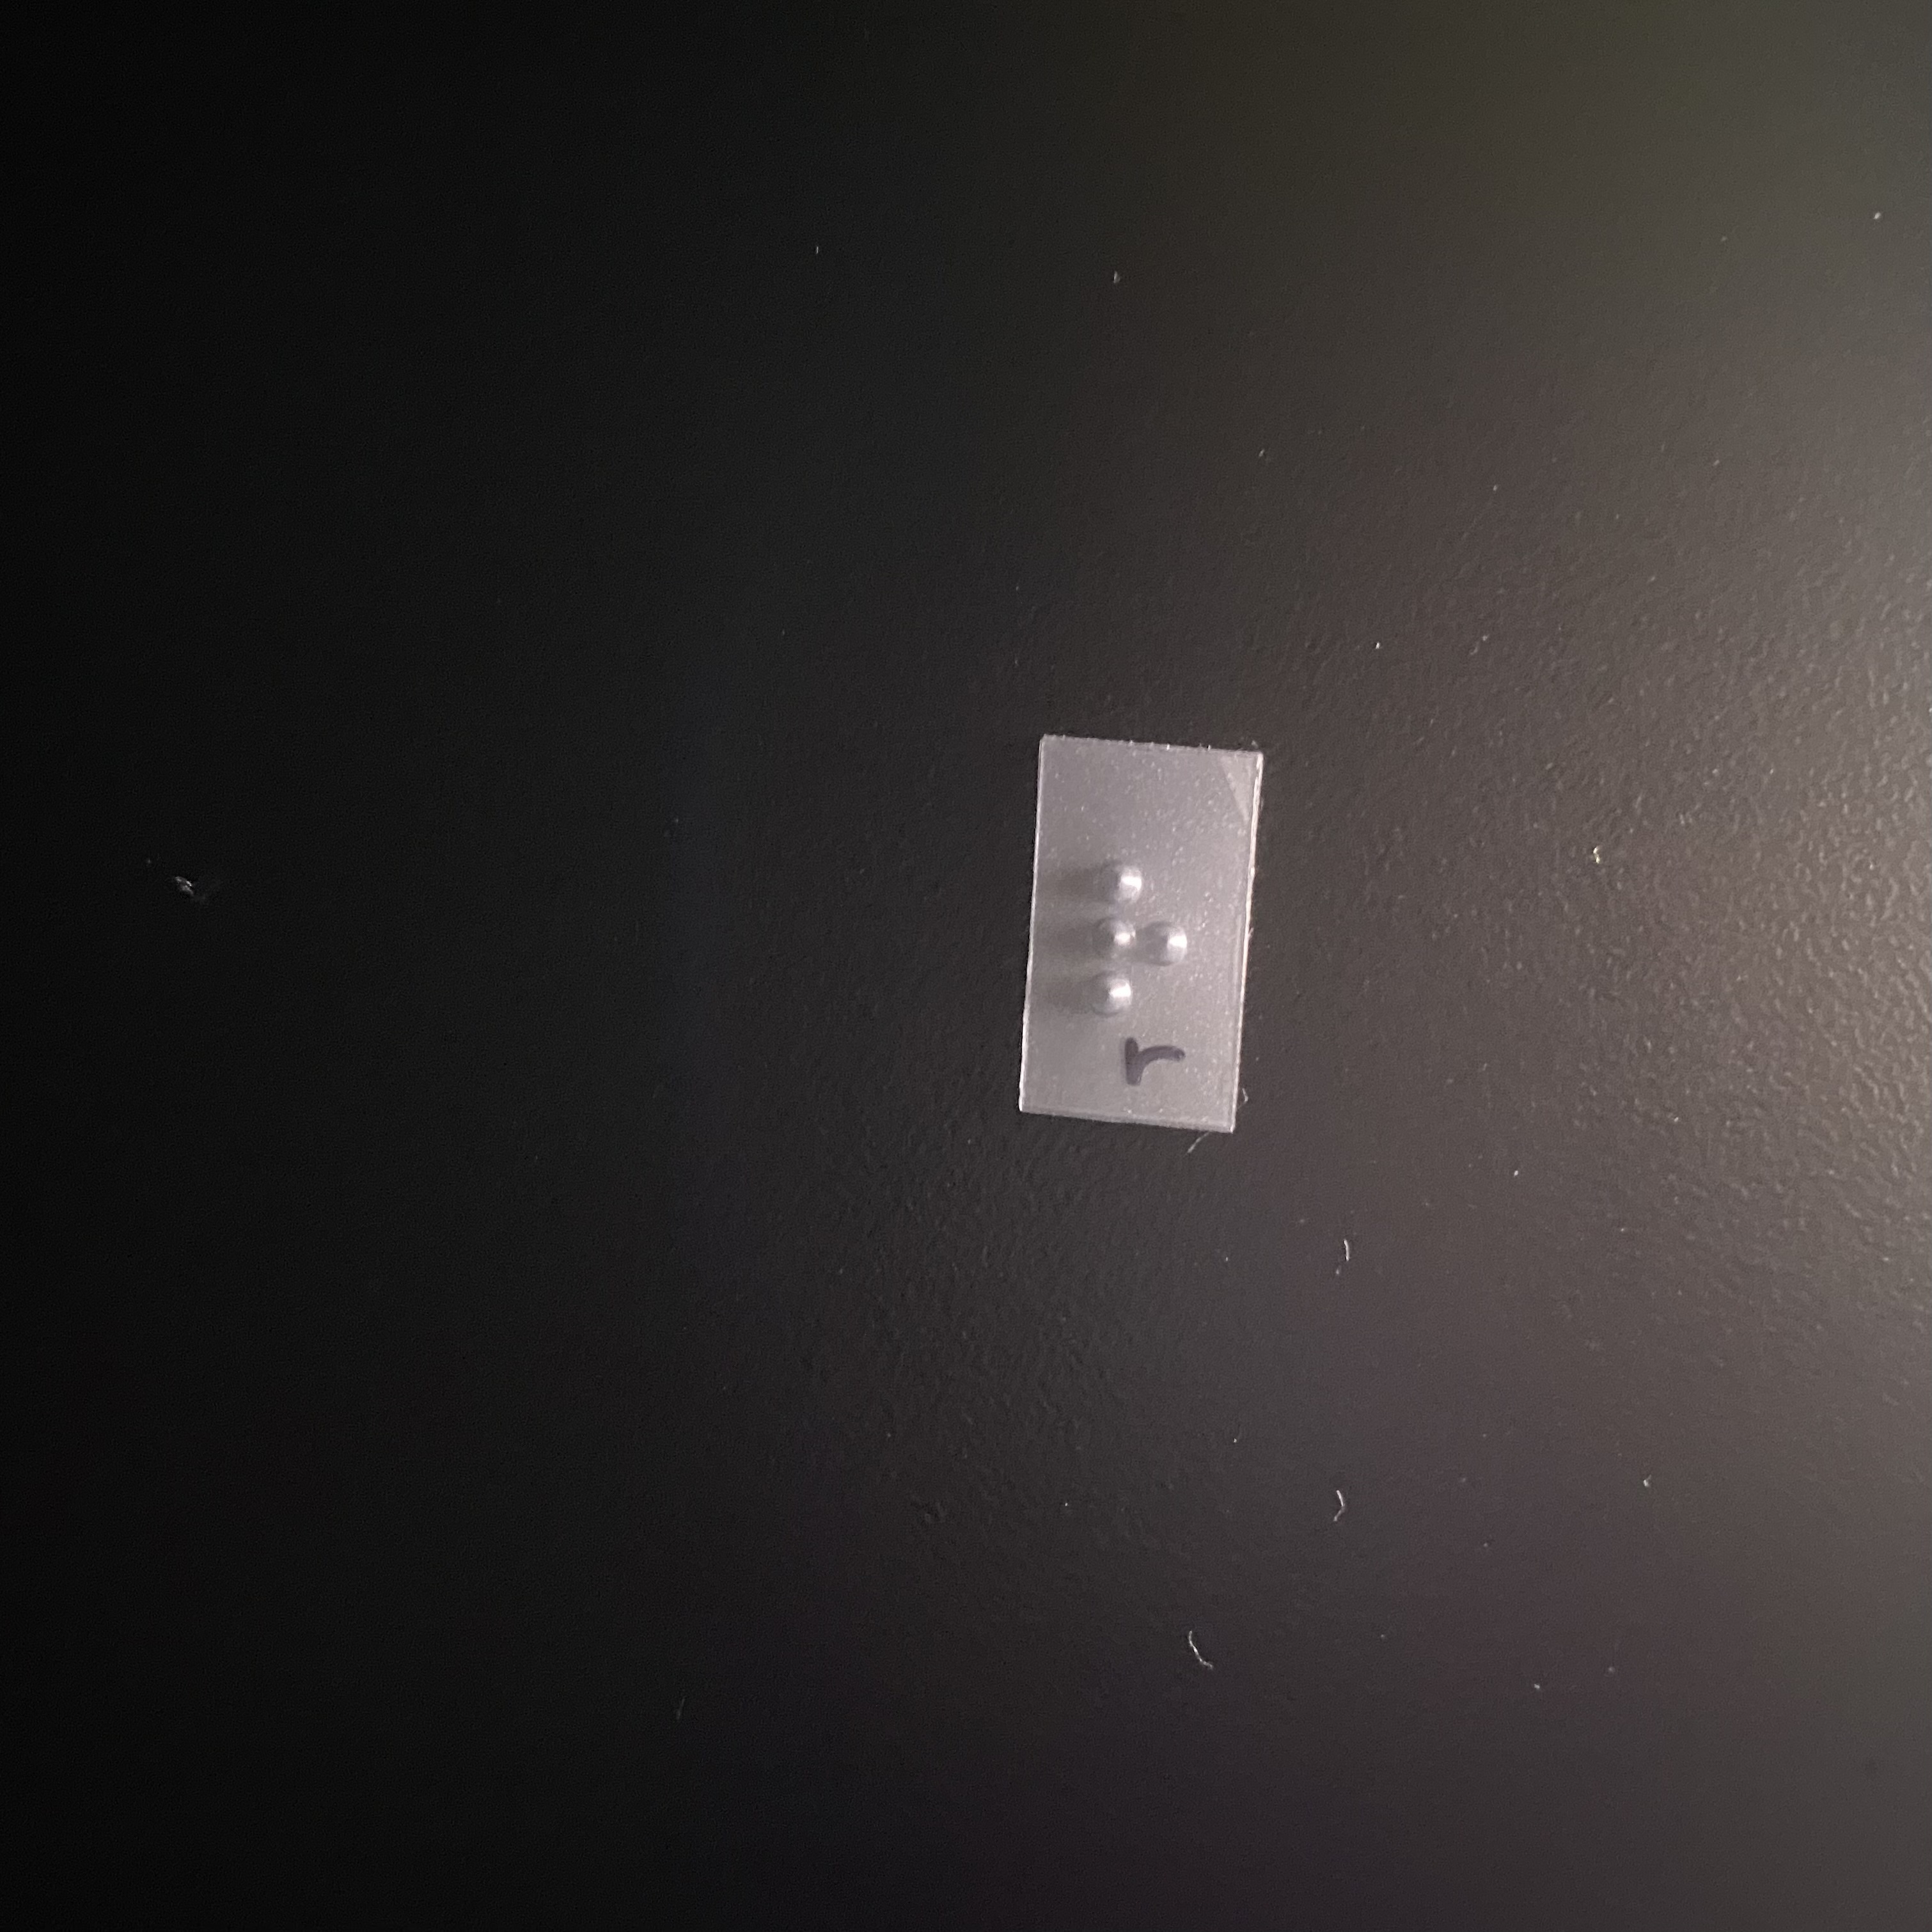r: (1067, 856, 1193, 1022)
